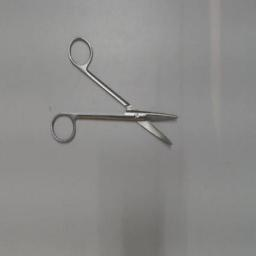Curved Mayo Scissors: (50, 32, 182, 150)
